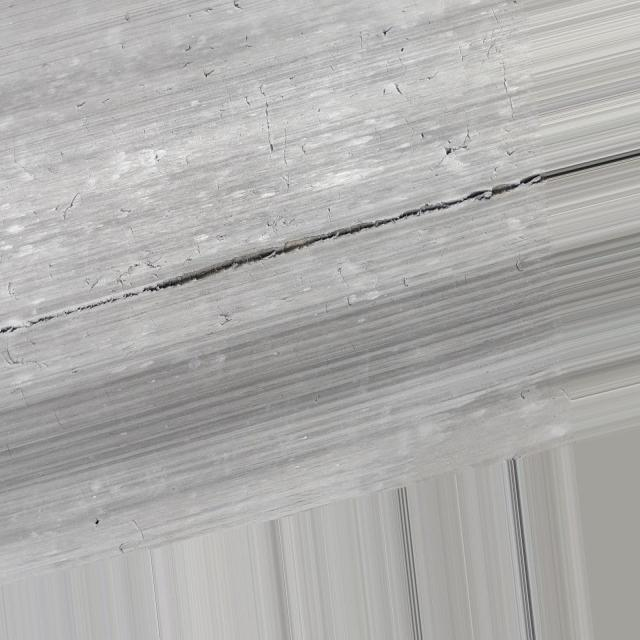Puncture: (381, 26, 392, 37), (442, 147, 452, 155)
Tear: (0, 174, 548, 330)
